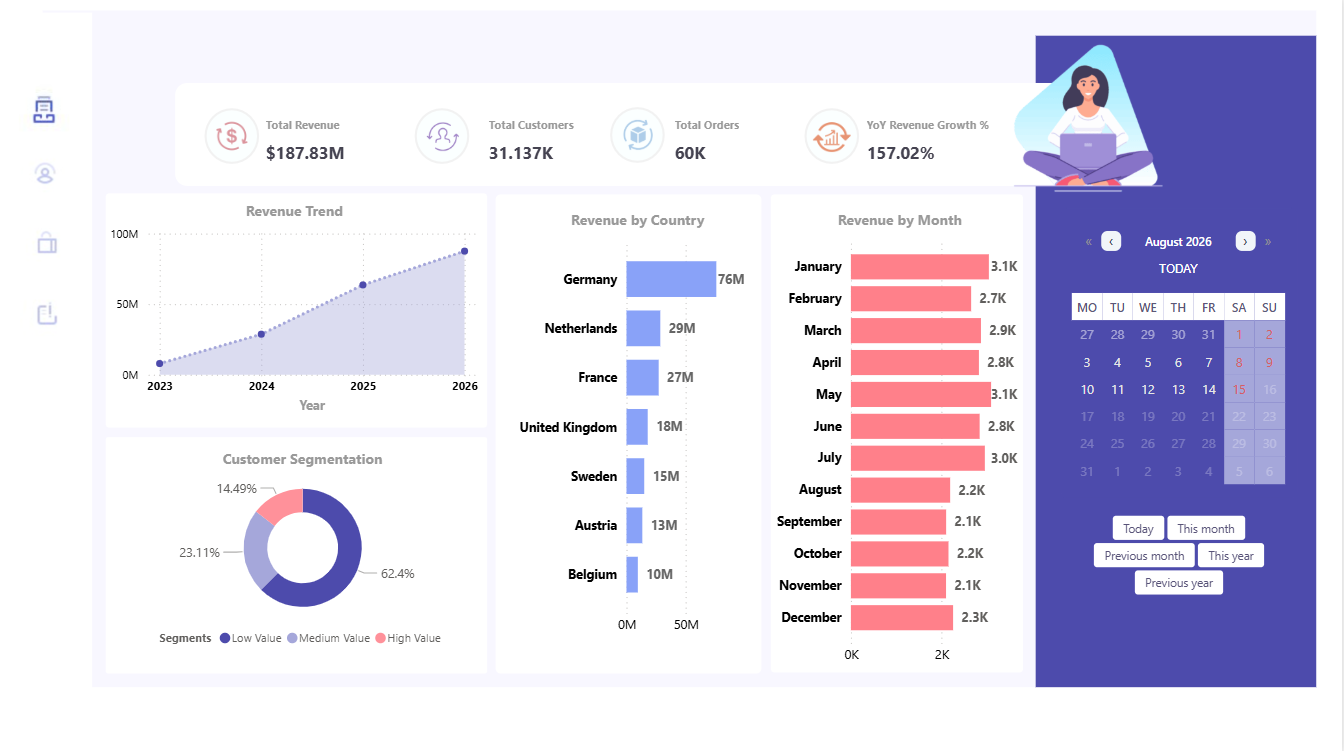

The page's visual inventory and layout, read from the dashboard file:
{"tool":"powerbi","page":{"name":"Overview","canvas":[1280,720],"ordinal":0},"visuals":[{"type":"cardVisual","fields":{"Data":["_Measures.Total Revenue"]},"box":[239,97.5,162.5,72.9],"z":0},{"type":"cardVisual","fields":{"Data":["_Measures.Total Orders"]},"box":[628.1,97.5,123,72.9],"z":1000},{"type":"cardVisual","fields":{"Data":["_Measures.Total Customers"]},"box":[450.7,97.5,128.3,72.9],"z":2000},{"type":"cardVisual","fields":{"Data":["_Measures.YoY Revenue Growth %"]},"box":[810.9,97.5,165.2,72.9],"z":3000},{"type":"clusteredBarChart","title":"Revenue by Country","fields":{"Category":["Customers.Country"],"Y":["_Measures.Total Revenue2"]},"box":[491.1,202.9,237.2,412.9],"z":4000},{"type":"clusteredBarChart","title":"Revenue by Month","fields":{"Category":["Customers.SignupDate.Variation.Date Hierarchy.Month"],"Y":["_Measures.Total Customers"]},"box":[735.8,202.7,247.1,441.5],"z":5000},{"type":"lineChart","title":"Revenue Trend","fields":{"Y":["_Measures.Total Revenue"],"Category":["DateTable.Year","DateTable.Month"]},"box":[102.8,194.2,360.2,207.3],"z":6000},{"type":"donutChart","title":"Customer Segmentation","fields":{"Category":["Customers.CustomerSegment"],"Y":["CountNonNull(Customers.CustomerID)"]},"box":[109.8,430.5,362.8,197.7],"z":7000},{"type":"SuperDatePicker_BIsuperheroCZ","fields":{"dateColumn":["Orders.OrderDate"]},"box":[1007,183.5,236.1,407.6],"z":8000},{"type":"actionButton","box":[21.6,150.1,46.3,39.9],"z":9000},{"type":"actionButton","box":[22,217.9,46.6,40.4],"z":10000},{"type":"actionButton","box":[22,285.5,46.6,40.4],"z":11000}]}

Visuals, with their boxes on the page's 1280x720 design canvas (x1, y1, x2, y2). These are canvas units, not pixel positions in the 1344x751 screenshot, which may show the page scaled, cropped or inside an application window:
cardVisual - _Measures.Total Revenue: (x1=239, y1=98, x2=402, y2=170)
cardVisual - _Measures.Total Orders: (x1=628, y1=98, x2=751, y2=170)
cardVisual - _Measures.Total Customers: (x1=451, y1=98, x2=579, y2=170)
cardVisual - _Measures.YoY Revenue Growth %: (x1=811, y1=98, x2=976, y2=170)
"Revenue by Country" clusteredBarChart: (x1=491, y1=203, x2=728, y2=616)
"Revenue by Month" clusteredBarChart: (x1=736, y1=203, x2=983, y2=644)
"Revenue Trend" lineChart: (x1=103, y1=194, x2=463, y2=402)
"Customer Segmentation" donutChart: (x1=110, y1=430, x2=473, y2=628)
SuperDatePicker_BIsuperheroCZ - Orders.OrderDate: (x1=1007, y1=184, x2=1243, y2=591)
actionButton: (x1=22, y1=150, x2=68, y2=190)
actionButton: (x1=22, y1=218, x2=69, y2=258)
actionButton: (x1=22, y1=286, x2=69, y2=326)
